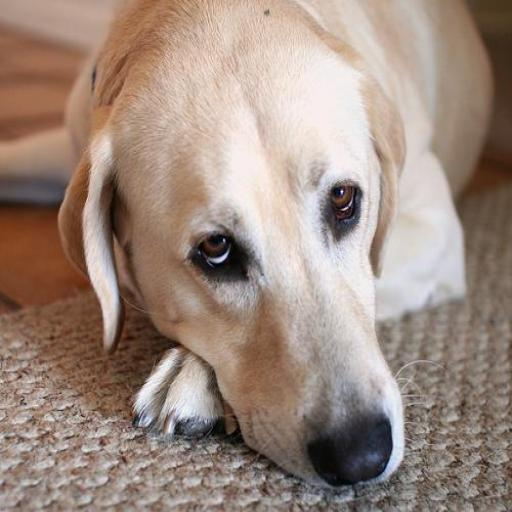dog_face: (87, 42, 417, 480)
